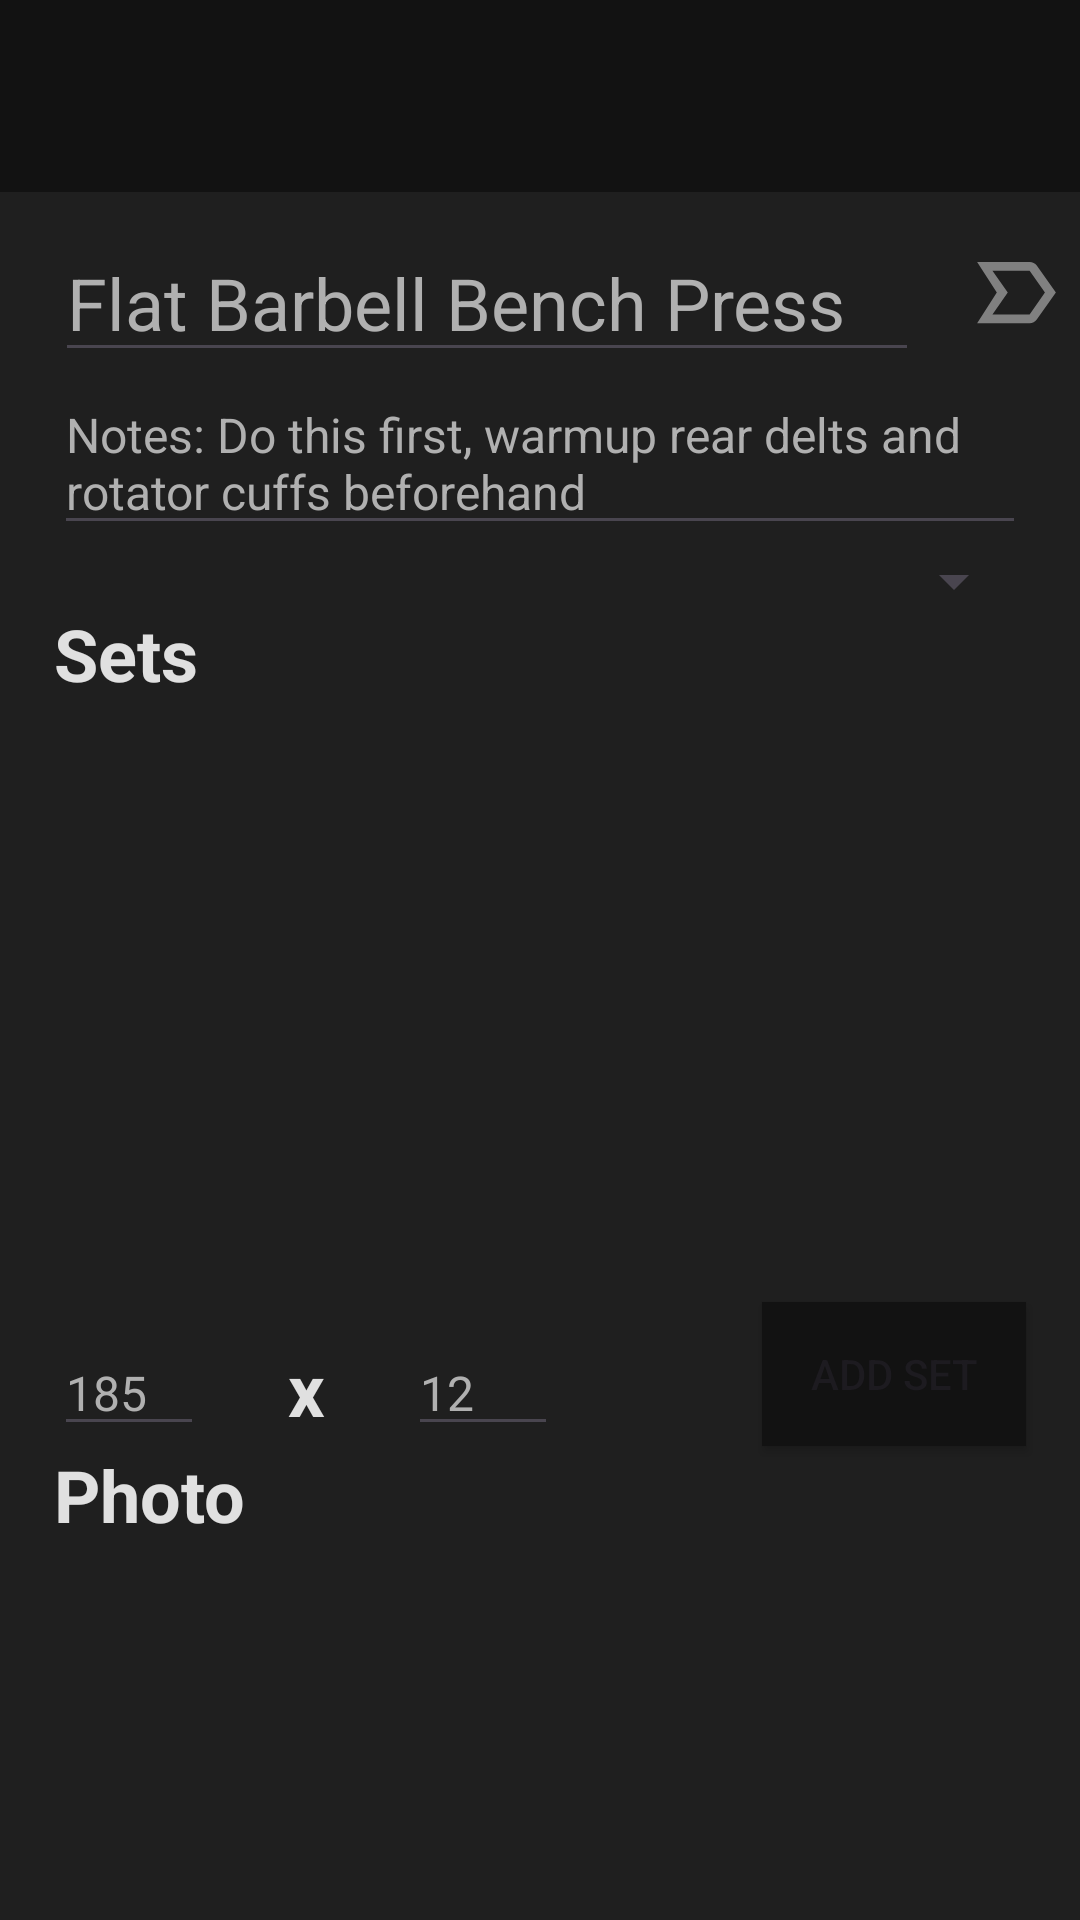

Named icons in this screenshot (1080px×1920px) and their centers, point (x, y):
label important: point (1016, 293)
